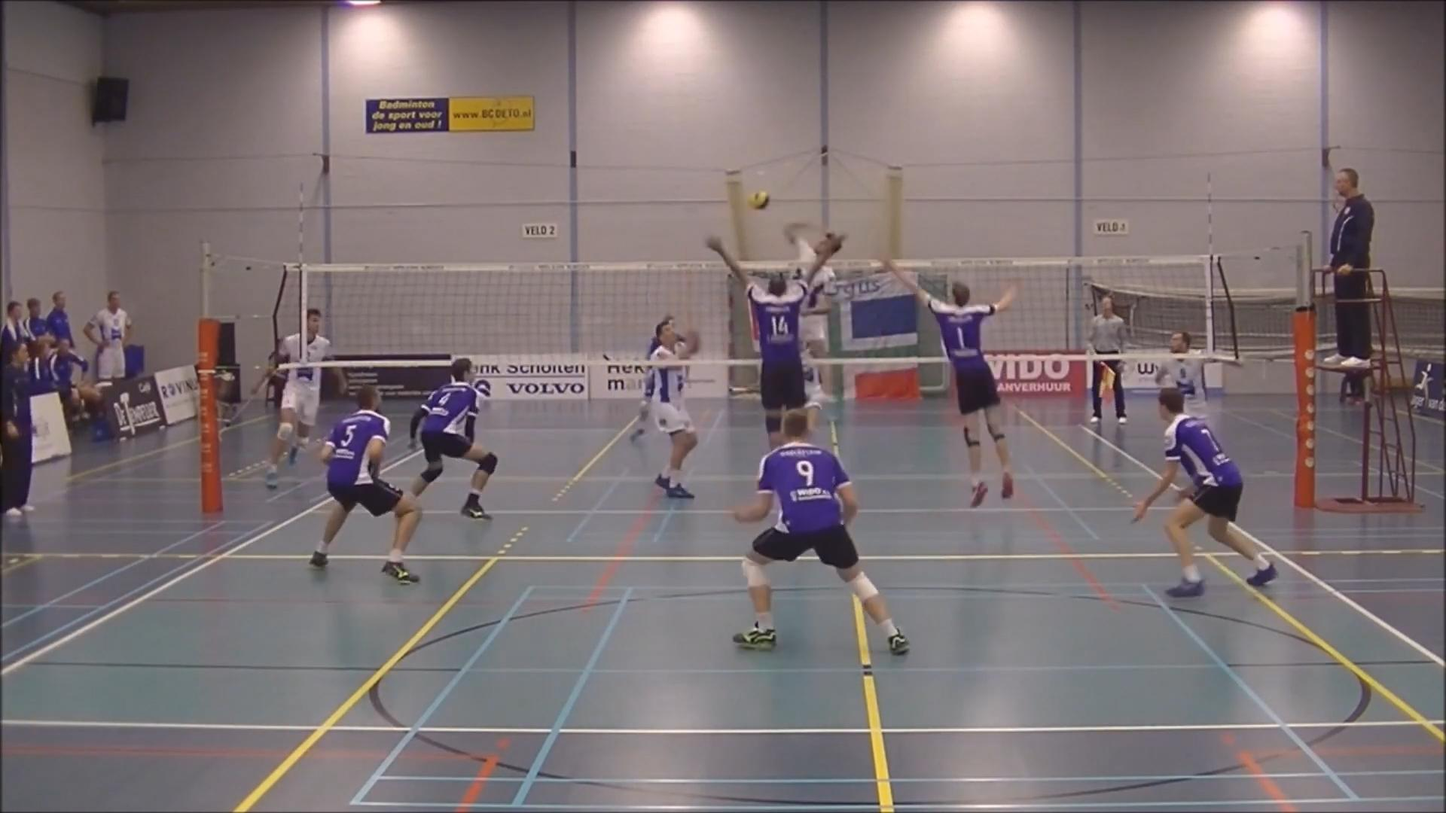Attack: (776, 202, 848, 418)
Block: (883, 246, 1034, 507), (707, 217, 846, 469)
Player: (734, 411, 908, 654), (1133, 388, 1277, 597), (310, 385, 420, 583), (410, 358, 497, 519), (649, 320, 698, 498), (264, 366, 324, 489), (1155, 330, 1210, 421), (630, 368, 655, 441), (804, 348, 825, 431)
ball: (748, 184, 773, 212)
